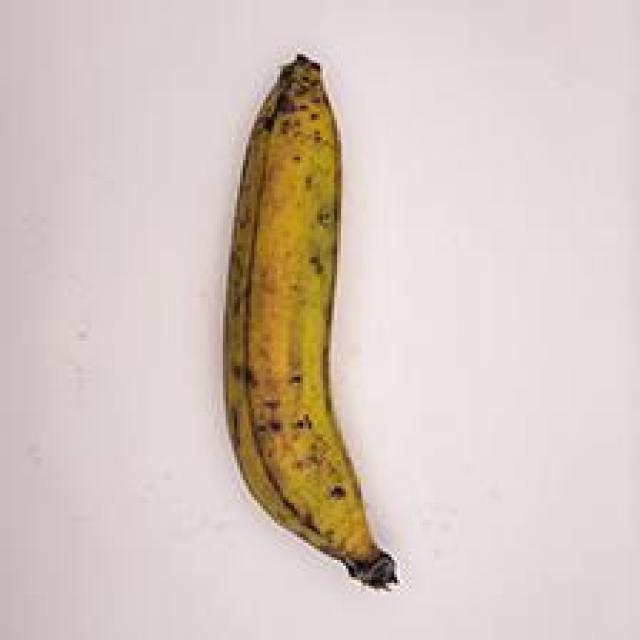Overripe: (190, 31, 447, 604)
